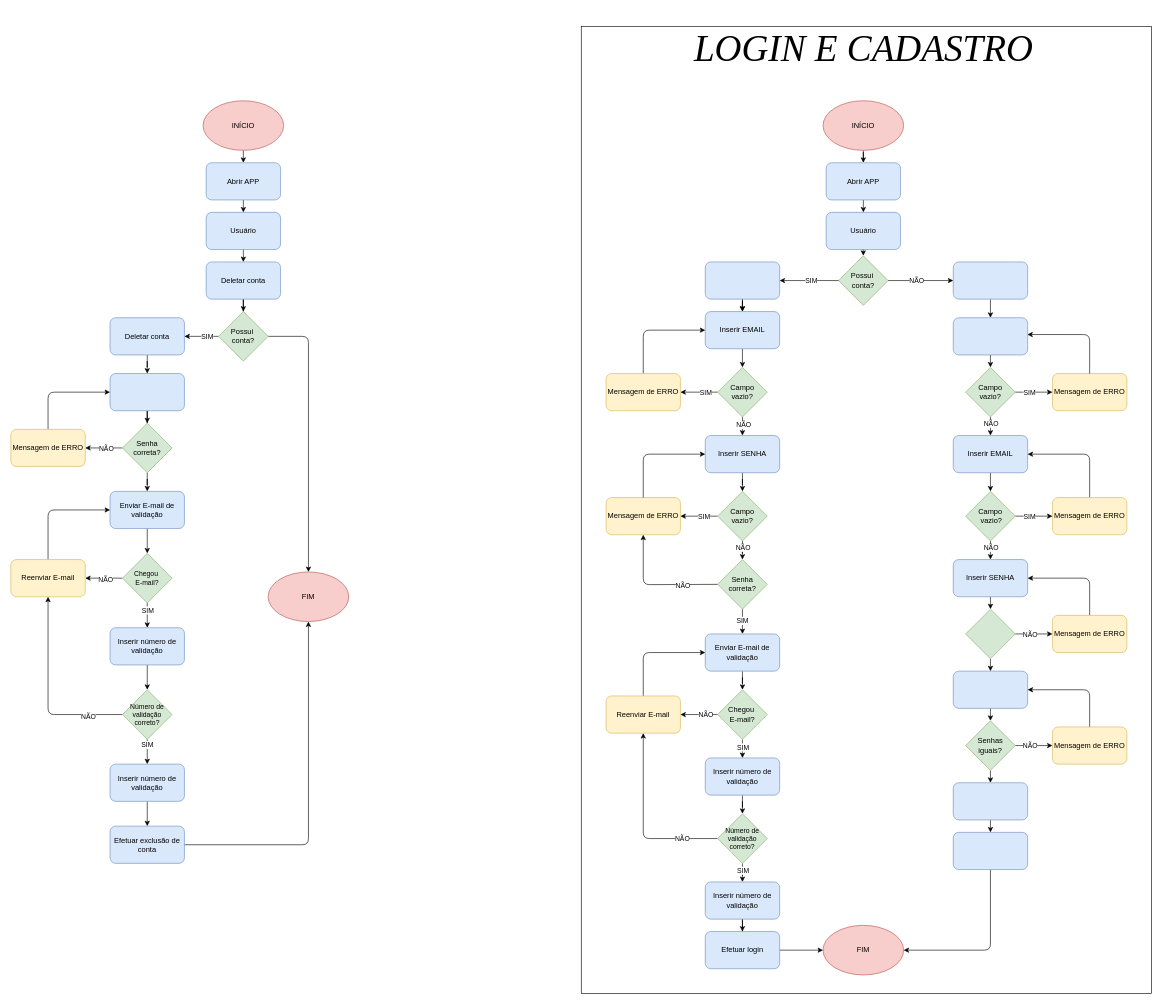
The diagram is 1163 pixels wide and 1004 high, and some of its shapes have lost their labels. Here are the shapes that lost their labels. From the top down, the centre of each, then its label:
At pixel 742 280: "Login".
At pixel 990 280: "Cadastrar".
At pixel 990 336: "Inserir nome".
At pixel 146 392: "Digitar senha".
At pixel 990 634: "Carectere >= 8?".
At pixel 990 689: "Confirmar SENHA".
At pixel 990 801: "Clicar em CADASTRAR".
At pixel 990 851: "Tela de login".
